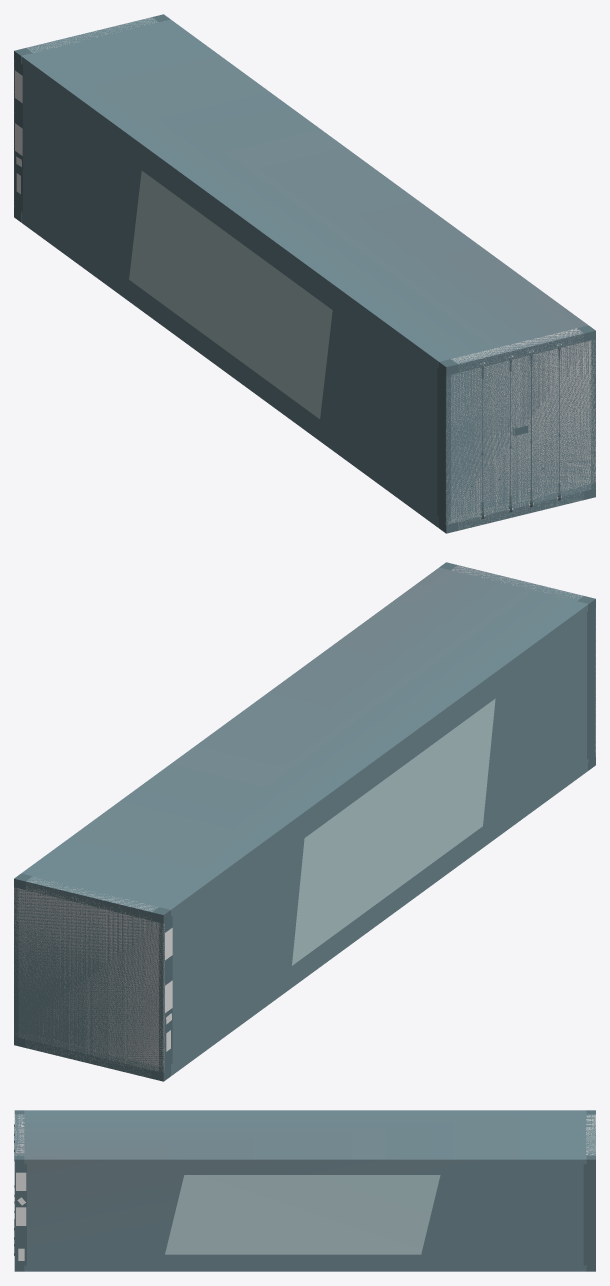
File: containers_40_folk.dae
3 views of the same model, one above another, from view 1: azimuth 30°, elevation 25°; view 2: azimuth 150°, elevation 25°; view 3: azimuth 270°, elevation 25° (orthographic). The views are drawn at different scales.
Parts seen in each view (by area): view 1: containers_40_folk_a40, Colmesh_containers_40_folk-1, containers_40_folk_a1500, containers_40_folk_a150, containers_40_folk_a600; view 2: containers_40_folk_a40, Colmesh_containers_40_folk-1, containers_40_folk_a150, containers_40_folk_a1500, containers_40_folk_a600; view 3: containers_40_folk_a40, containers_40_folk_a1500, containers_40_folk_a600, Colmesh_containers_40_folk-1, containers_40_folk_a150.
Part boxes in pixels (x1=…): containers_40_folk_a40: x1=14, y1=17, x2=595, y2=530; Colmesh_containers_40_folk-1: x1=14, y1=17, x2=595, y2=527; containers_40_folk_a1500: x1=14, y1=14, x2=595, y2=533; containers_40_folk_a150: x1=446, y1=333, x2=595, y2=530; containers_40_folk_a600: x1=14, y1=14, x2=595, y2=533; containers_40_folk_a40: x1=14, y1=565, x2=595, y2=1078; Colmesh_containers_40_folk-1: x1=14, y1=565, x2=595, y2=1076; containers_40_folk_a150: x1=14, y1=881, x2=163, y2=1078; containers_40_folk_a1500: x1=14, y1=562, x2=595, y2=1081; containers_40_folk_a600: x1=14, y1=562, x2=595, y2=1081; containers_40_folk_a40: x1=14, y1=1110, x2=595, y2=1271; containers_40_folk_a1500: x1=14, y1=1110, x2=595, y2=1271; containers_40_folk_a600: x1=15, y1=1110, x2=595, y2=1271; Colmesh_containers_40_folk-1: x1=14, y1=1114, x2=595, y2=1163; containers_40_folk_a150: x1=14, y1=1165, x2=595, y2=1265.
Bounding box in the file's own units: 2.65 × 12.21 × 2.6.
